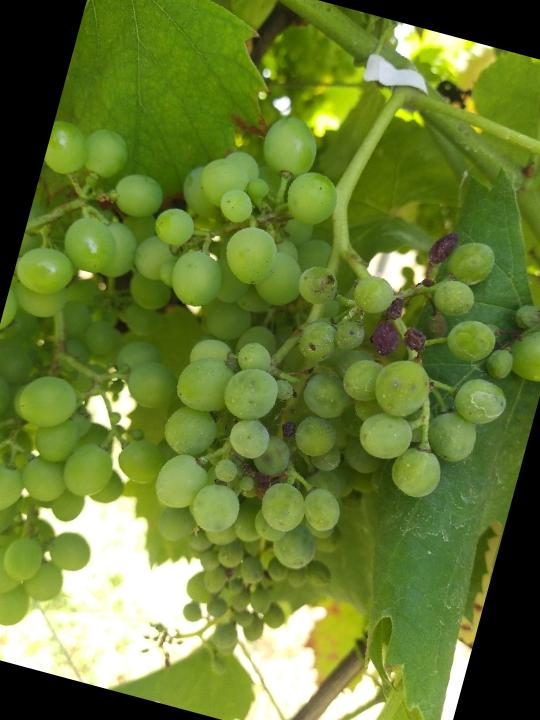grape: (65, 84, 540, 621)
